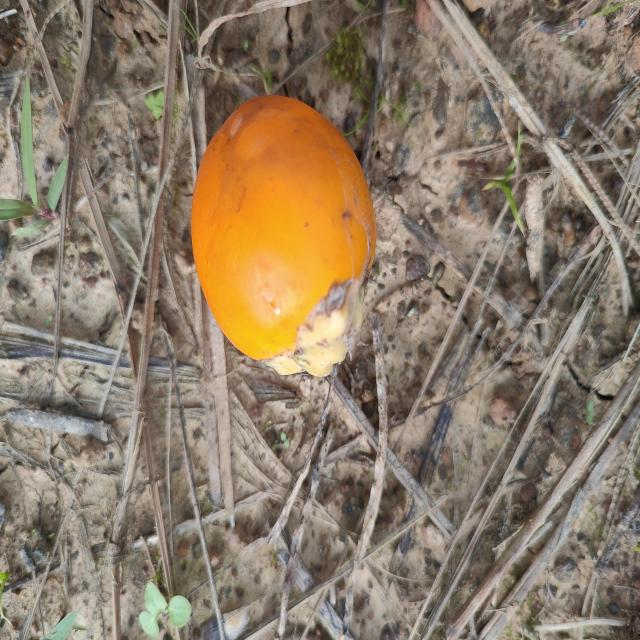good: (190, 95, 378, 375)
